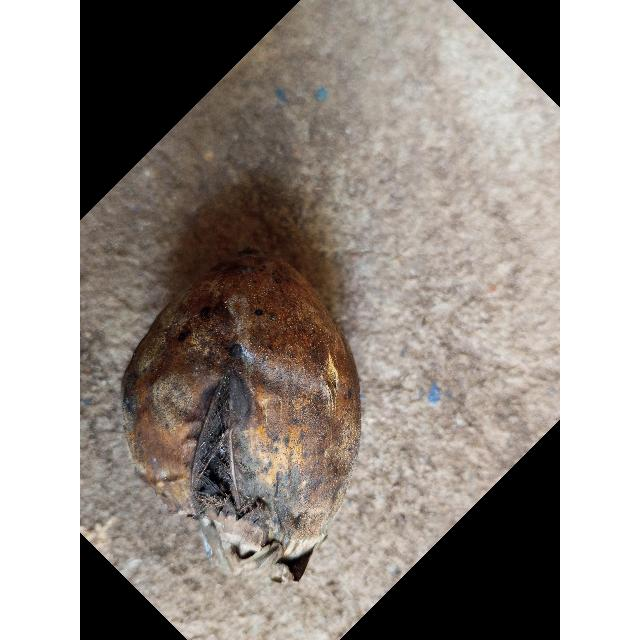damaged: (123, 253, 361, 574)
